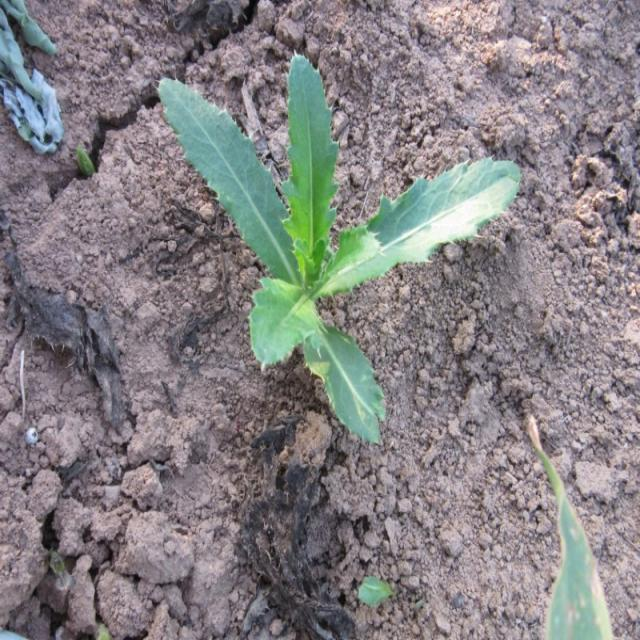cs: (158, 51, 525, 445)
